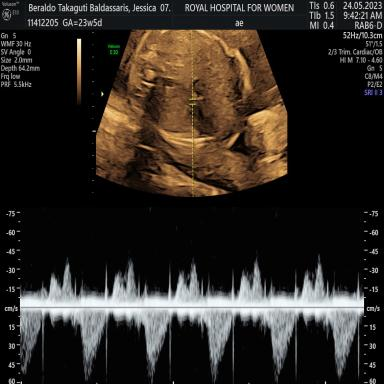Ultrasound-Waves: (26, 212, 359, 384)
